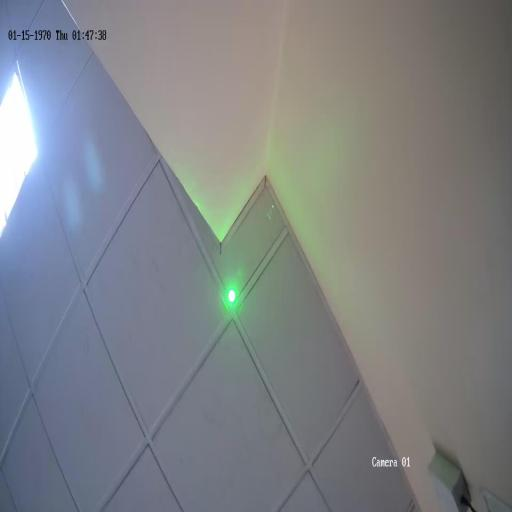laser: (217, 264, 245, 320)
